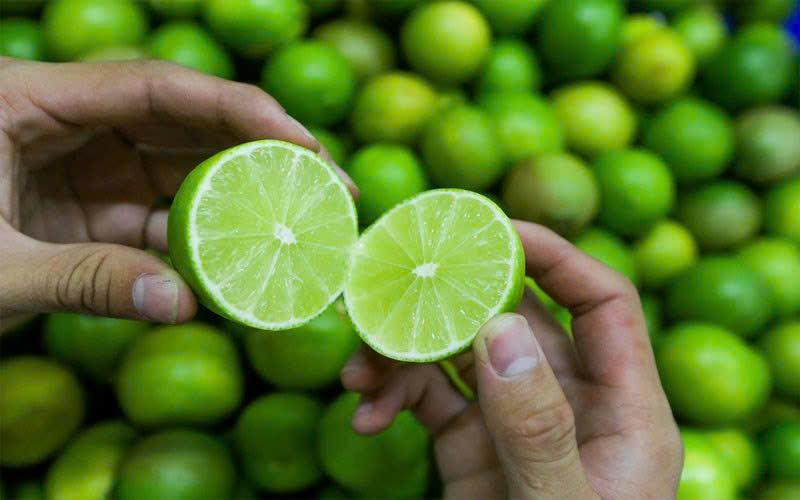lime: (184, 134, 529, 366)
